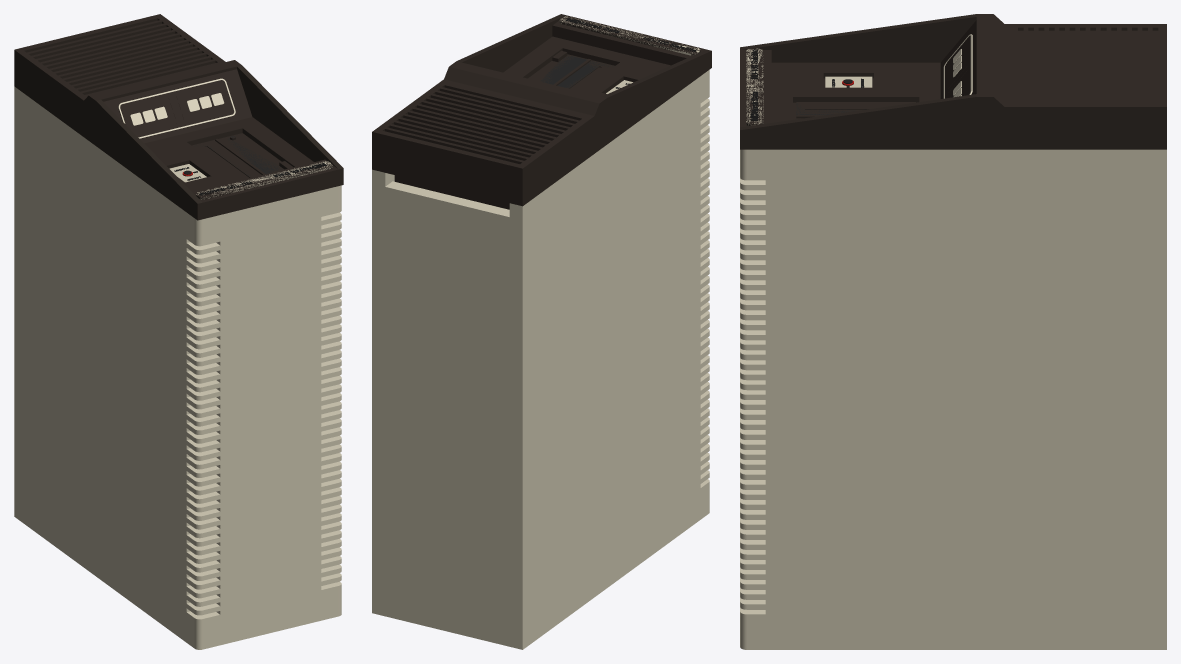
File: ND100-Satellite.obj
3 views of the same model, side by side, from view 1: azimuth 30°, elevation 25°; view 2: azimuth 150°, elevation 25°; view 3: azimuth 270°, elevation 25° (orthographic). The views are drawn at different scales.
Parts seen in each view (by area): view 1: BoxTop, BoxBottom, FrontPanel, ButtonPlate, Buttons, Badge, ButtonBorder, TapeDrive; view 2: BoxBottom, BoxTop, FrontPanel, TapeDrive, Badge; view 3: BoxBottom, BoxTop, FrontPanel, ButtonPlate, Badge.
Boxes of the visible parts, x1,y1,x2,y2 form: BoxTop: (106, 154, 341, 649); BoxBottom: (14, 86, 105, 583); FrontPanel: (14, 14, 343, 220); ButtonPlate: (120, 80, 233, 137); Buttons: (130, 93, 224, 125); Badge: (196, 161, 332, 199); ButtonBorder: (118, 78, 235, 138); TapeDrive: (227, 136, 282, 173); BoxBottom: (372, 137, 617, 649); BoxTop: (617, 70, 709, 580); FrontPanel: (372, 14, 711, 209); TapeDrive: (541, 55, 586, 84); Badge: (559, 16, 700, 55); BoxBottom: (953, 149, 1166, 649); BoxTop: (740, 149, 953, 649); FrontPanel: (740, 14, 1166, 149); ButtonPlate: (945, 36, 970, 98); Badge: (746, 48, 763, 125).
Size of the model in its own units: 230 by 715 by 500.
